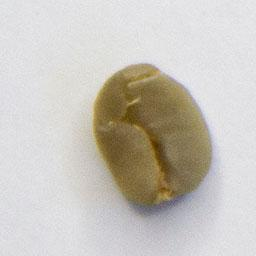premium: (89, 60, 215, 209)
